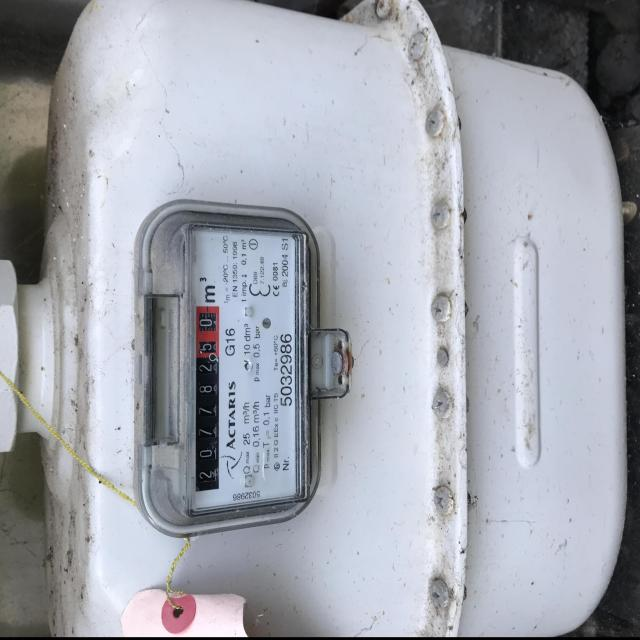gaz_meter: (142, 202, 319, 516), (199, 318, 212, 328)
indication: (193, 305, 220, 492)
